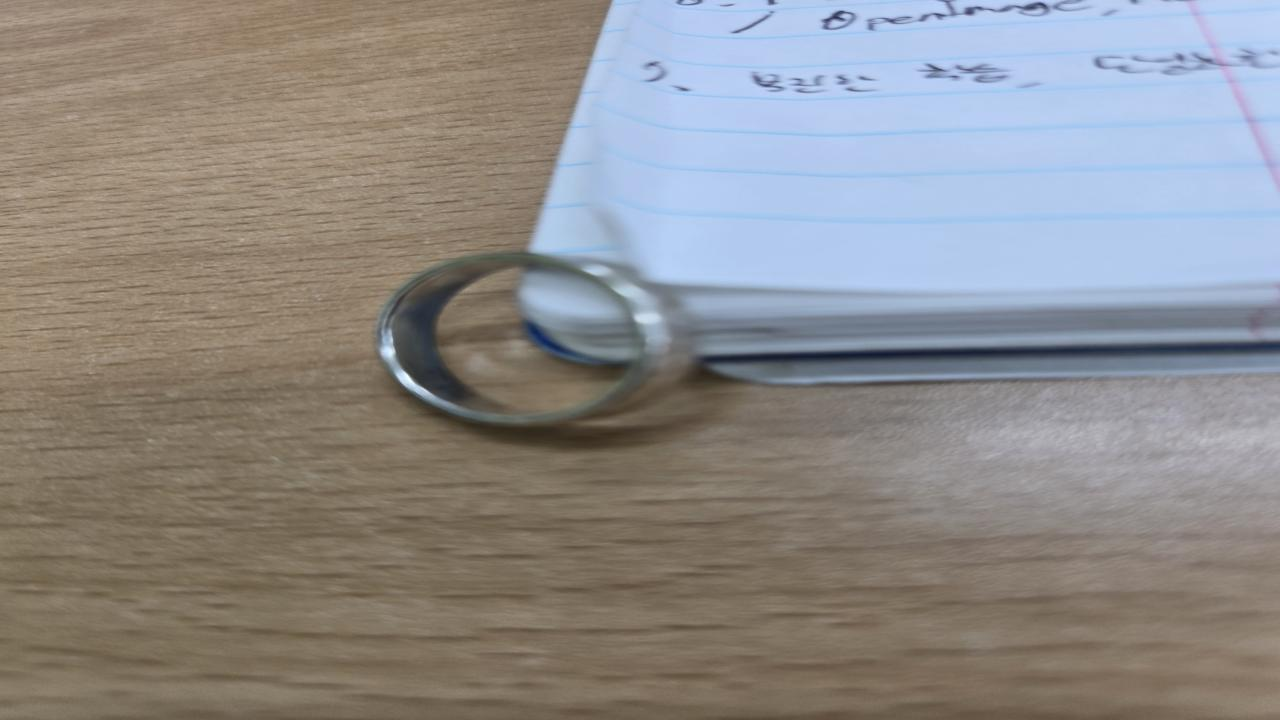ring: (371, 250, 703, 430)
